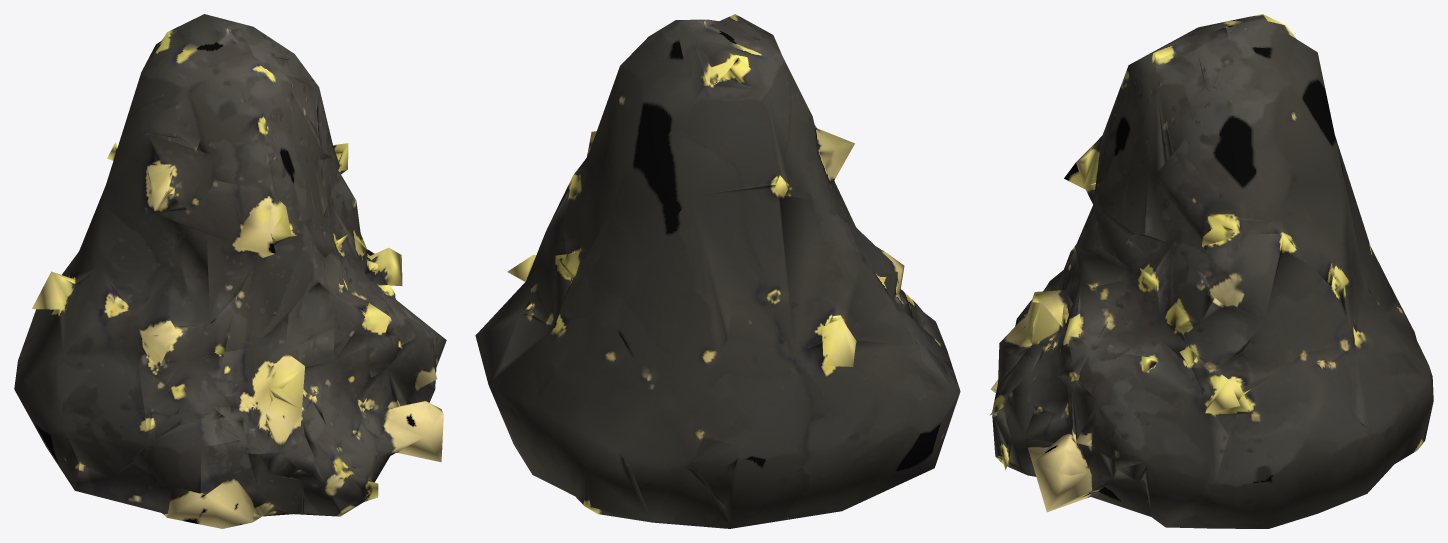
The model's file is guhercile.glb.
The picture shows the model from 3 angles, left to right: view 1: azimuth 30°, elevation 25°; view 2: azimuth 150°, elevation 25°; view 3: azimuth 270°, elevation 25°; orthographic projection. The views are drawn at different scales.
Visible parts, largest first — view 1: guhercile; view 2: guhercile; view 3: guhercile.
Part boxes in pixels (box(x1,y1,x2,y2)): guhercile: box(14, 14, 446, 528); guhercile: box(475, 14, 960, 528); guhercile: box(989, 14, 1433, 528).
Size of the model in its own units: 0.788 by 0.7879 by 0.737.
1 material, 1 textured.
